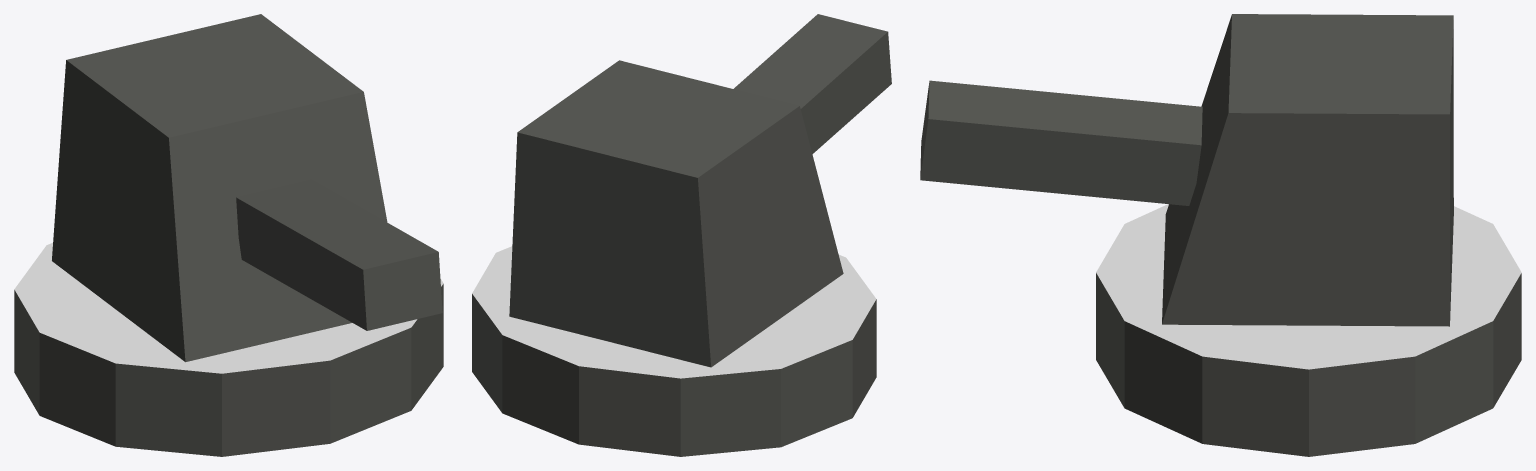
Rendered from Weapon1.fbx.
3 views of the same model, side by side, from view 1: azimuth 30°, elevation 25°; view 2: azimuth 150°, elevation 25°; view 3: azimuth 270°, elevation 25° (orthographic). The views are drawn at different scales.
Parts seen in each view (by area): view 1: Weapon2New1; view 2: Weapon2New1; view 3: Weapon2New1.
Boxes of the visible parts, <box> form: Weapon2New1: <box>14,14,443,456</box>; Weapon2New1: <box>472,14,891,456</box>; Weapon2New1: <box>920,14,1521,456</box>.
Bounding box in the file's own units: 49.62 × 35.32 × 64.97.
